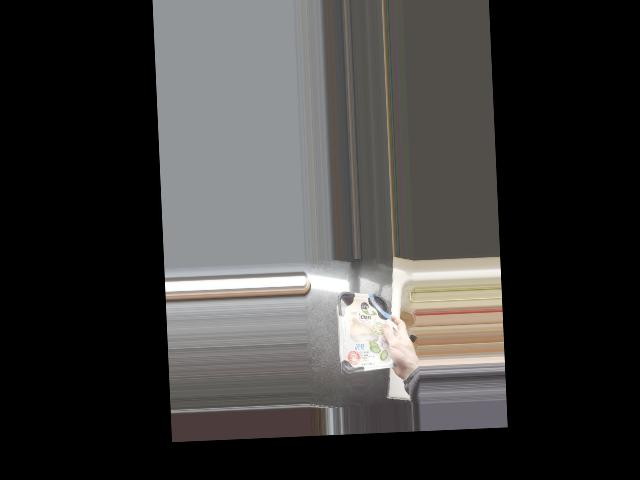cheese: (337, 291, 400, 373)
